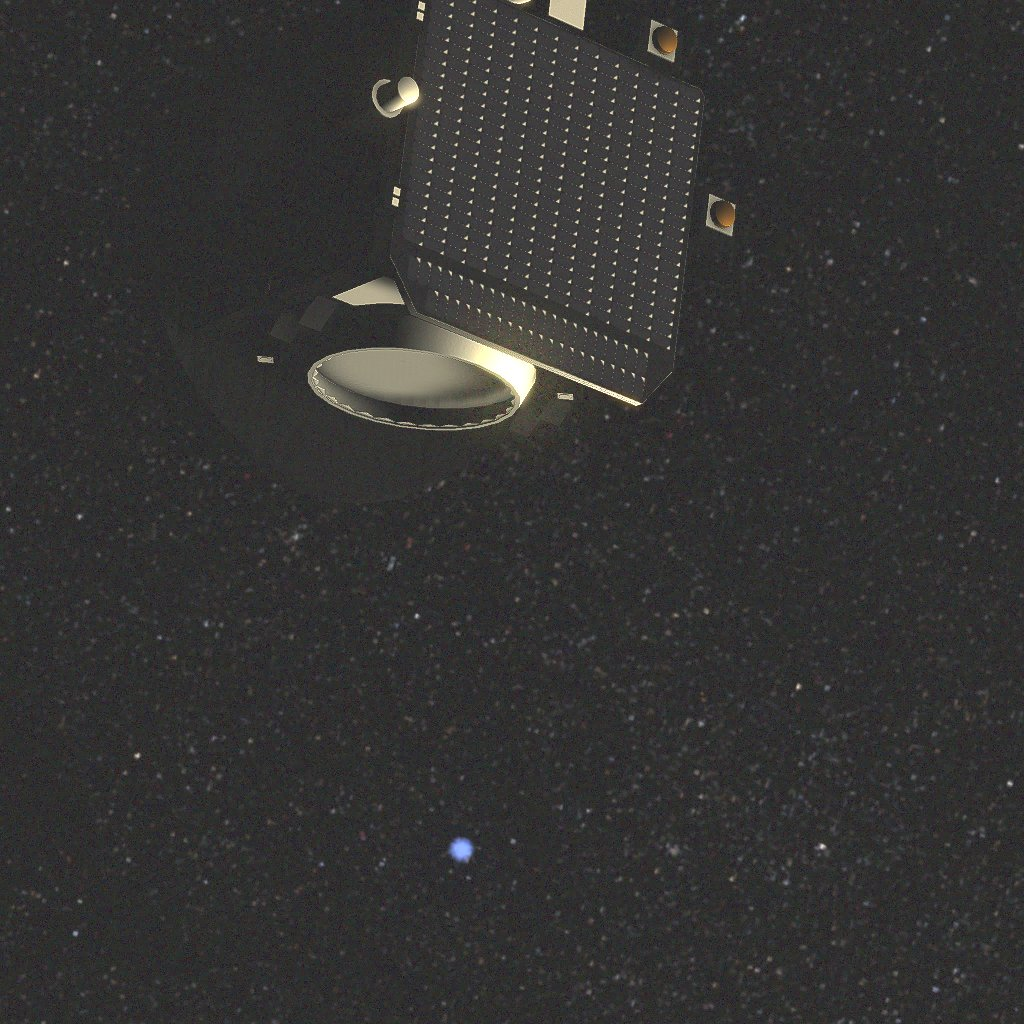proba_3_ocs: (119, 15, 696, 510)
